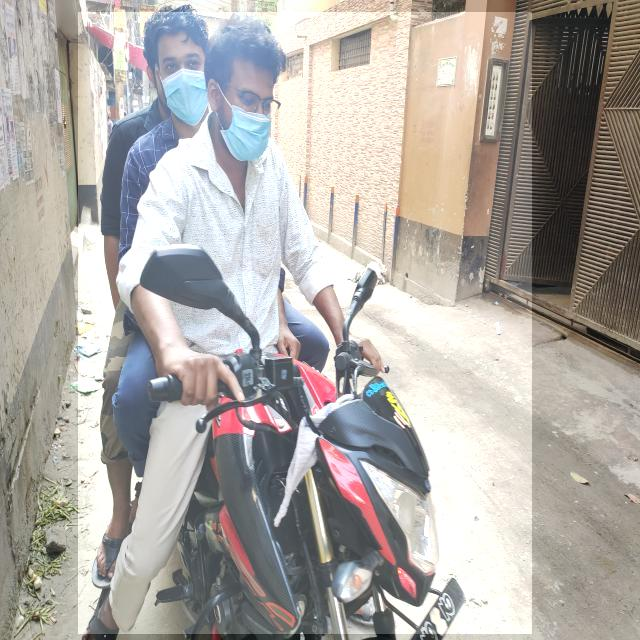Overloading: (78, 12, 532, 634)
